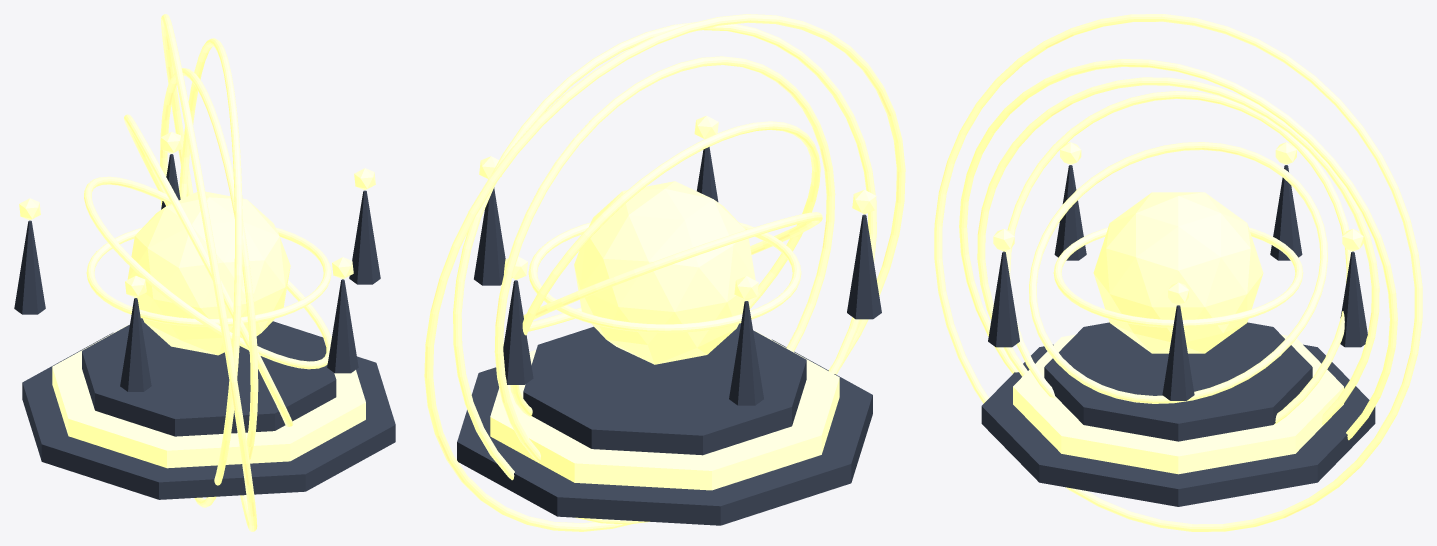
The model's file is gpu-blender-v34.glb.
3 renders of one model, left to right at view 1: azimuth 30°, elevation 25°; view 2: azimuth 150°, elevation 25°; view 3: azimuth 270°, elevation 25°, orthographic. The views are drawn at different scales.
Parts seen in each view (by area): view 1: Cylinder.002, Cylinder, SovereignCore_agent-gods-eye, Cylinder.001, Torus.005, Torus.004, Torus.001, Torus.003, Torus, Torus.002, Cone.004, Cone.002 (+2 smaller); view 2: Cylinder.002, SovereignCore_agent-gods-eye, Cylinder, Cylinder.001, Torus.005, Torus.003, Torus.004, Torus.002, Torus, Torus.001, Cone.003, Cone.002 (+3 smaller); view 3: SovereignCore_agent-gods-eye, Cylinder.002, Cylinder, Cylinder.001, Torus.005, Torus.004, Torus.001, Torus.003, Torus.002, Torus, Cone.004, Cone (+3 smaller).
Boxes of the visible parts, <box> form: Cylinder.002: <box>82,318,336,436</box>; Cylinder: <box>22,332,395,499</box>; SovereignCore_agent-gods-eye: <box>127,191,290,355</box>; Cylinder.001: <box>52,325,365,468</box>; Torus.005: <box>161,14,257,531</box>; Torus.004: <box>179,38,242,507</box>; Torus.001: <box>84,176,331,369</box>; Torus.003: <box>160,68,258,459</box>; Torus: <box>86,227,331,326</box>; Torus.002: <box>124,114,293,426</box>; Cone.004: <box>327,279,358,373</box>; Cone.002: <box>14,220,45,314</box>; Cylinder.002: <box>523,323,806,455</box>; SovereignCore_agent-gods-eye: <box>574,181,755,364</box>; Cylinder: <box>457,339,872,525</box>; Cylinder.001: <box>490,330,839,490</box>; Torus.005: <box>424,14,905,531</box>; Torus.003: <box>494,56,835,461</box>; Torus.004: <box>453,22,876,524</box>; Torus.002: <box>510,121,820,416</box>; Torus: <box>528,222,801,333</box>; Torus.001: <box>523,212,822,331</box>; Cone.003: <box>847,214,881,319</box>; Cone.002: <box>729,301,763,405</box>; SovereignCore_agent-gods-eye: <box>1093,192,1263,353</box>; Cylinder.002: <box>1044,322,1312,441</box>; Cylinder: <box>981,344,1375,506</box>; Cylinder.001: <box>1013,334,1343,474</box>; Torus.005: <box>934,14,1422,531</box>; Torus.004: <box>959,59,1397,440</box>; Torus.001: <box>1029,142,1327,403</box>; Torus.003: <box>977,77,1379,424</box>; Torus.002: <box>1004,91,1352,423</box>; Torus: <box>1053,227,1303,327</box>; Cone.004: <box>988,251,1019,347</box>; Cone: <box>1162,305,1194,400</box>.
Size of the model in its own units: 4.41 by 5.93 by 5.46.
